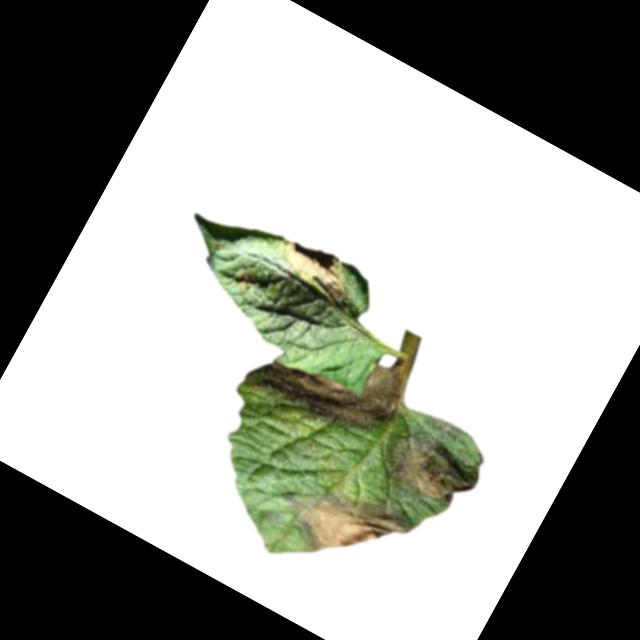Late_blight: (240, 306, 413, 455), (269, 460, 418, 591), (372, 418, 476, 514), (268, 231, 364, 313)
